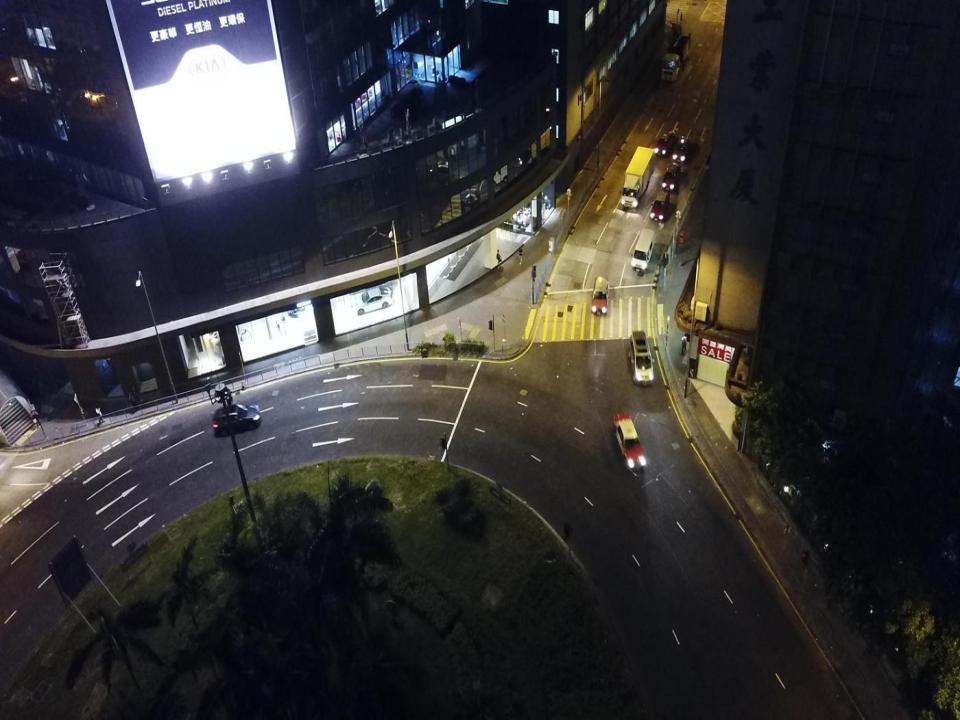car: (612, 412, 646, 469), (280, 257, 306, 317), (213, 403, 261, 435), (350, 285, 394, 315), (591, 276, 610, 314), (649, 191, 671, 222), (662, 162, 680, 190), (654, 129, 674, 154), (672, 135, 690, 162)
truck: (622, 146, 655, 207), (661, 32, 691, 81)
van: (628, 330, 655, 386), (631, 228, 655, 272)
